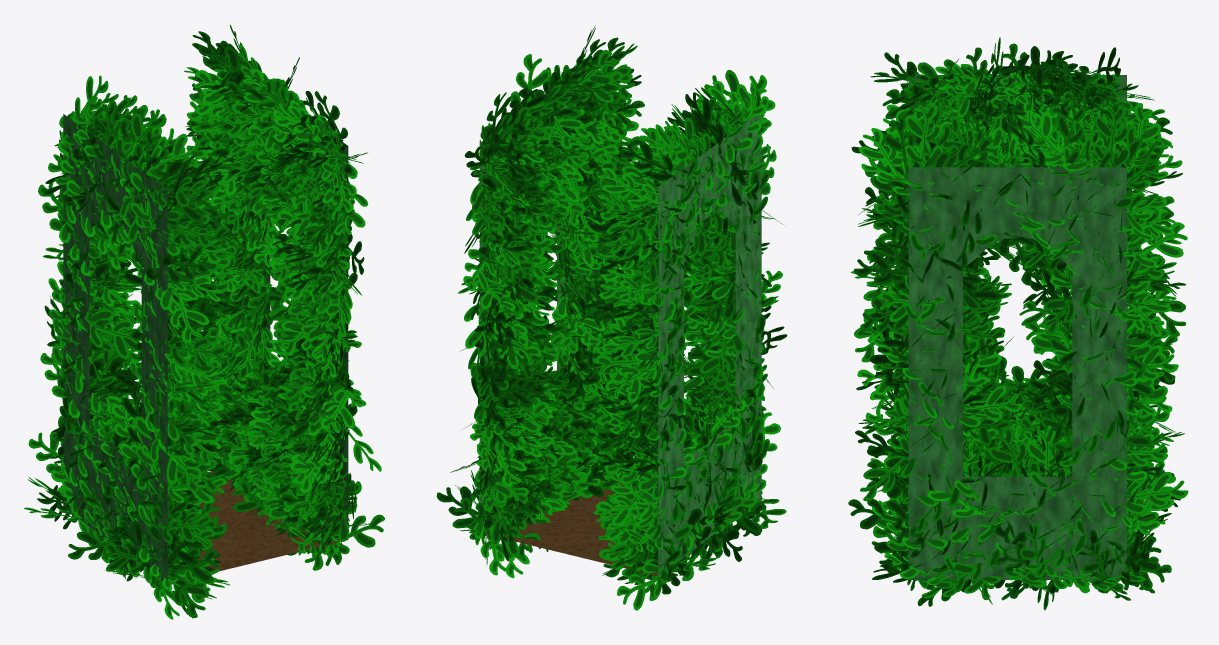
Rendered from StraightV2_4.fbx.
3 views of the same model, side by side, from view 1: azimuth 30°, elevation 25°; view 2: azimuth 150°, elevation 25°; view 3: azimuth 270°, elevation 25° (orthographic). The views are drawn at different scales.
Visible parts, largest first — view 1: StraightV2.4, StraightV2.4|Plane|Dupli|609, StraightV2.4|Plane|Dupli|1644, StraightV2.4|Plane|Dupli|1332, StraightV2.4|Plane|Dupli|1038, StraightV2.4|Plane|Dupli|1540, StraightV2.4|Plane|Dupli|438, StraightV2.4|Plane|Dupli|1015, StraightV2.4|Plane|Dupli|801, StraightV2.4|Plane|Dupli|289, StraightV2.4|Plane|Dupli|1327, StraightV2.4|Plane|Dupli|17 (+33 smaller); view 2: StraightV2.4, StraightV2.4|Plane|Dupli|1617, StraightV2.4|Plane|Dupli|1206, StraightV2.4|Plane|Dupli|1211, StraightV2.4|Plane|Dupli|579, StraightV2.4|Plane|Dupli|1100, StraightV2.4|Plane|Dupli|285, StraightV2.4|Plane|Dupli|1627, StraightV2.4|Plane|Dupli|1674, StraightV2.4|Plane|Dupli|224, StraightV2.4|Plane|Dupli|685, StraightV2.4|Plane|Dupli|275 (+29 smaller); view 3: StraightV2.4, StraightV2.4|Plane|Dupli|322, StraightV2.4|Plane|Dupli|122, StraightV2.4|Plane|Dupli|1712, StraightV2.4|Plane|Dupli|688, StraightV2.4|Plane|Dupli|132, StraightV2.4|Plane|Dupli|1884, StraightV2.4|Plane|Dupli|816, StraightV2.4|Plane|Dupli|447, StraightV2.4|Plane|Dupli|981, StraightV2.4|Plane|Dupli|216, StraightV2.4|Plane|Dupli|1728 (+42 smaller).
Part boxes in pixels (box(x1,y1,x2,y2)): StraightV2.4: box(63, 114, 348, 582); StraightV2.4|Plane|Dupli|609: box(160, 283, 209, 343); StraightV2.4|Plane|Dupli|1644: box(84, 309, 141, 359); StraightV2.4|Plane|Dupli|1332: box(160, 548, 218, 587); StraightV2.4|Plane|Dupli|1038: box(150, 430, 201, 484); StraightV2.4|Plane|Dupli|1540: box(164, 331, 228, 372); StraightV2.4|Plane|Dupli|438: box(116, 110, 165, 169); StraightV2.4|Plane|Dupli|1015: box(167, 412, 219, 465); StraightV2.4|Plane|Dupli|801: box(320, 383, 361, 431); StraightV2.4|Plane|Dupli|289: box(146, 133, 206, 179); StraightV2.4|Plane|Dupli|1327: box(158, 510, 211, 542); StraightV2.4|Plane|Dupli|17: box(335, 514, 384, 554); StraightV2.4: box(479, 85, 761, 575); StraightV2.4|Plane|Dupli|1617: box(605, 352, 663, 402); StraightV2.4|Plane|Dupli|1206: box(617, 562, 664, 610); StraightV2.4|Plane|Dupli|1211: box(595, 490, 660, 526); StraightV2.4|Plane|Dupli|579: box(620, 142, 676, 180); StraightV2.4|Plane|Dupli|1100: box(699, 327, 744, 390); StraightV2.4|Plane|Dupli|285: box(598, 168, 660, 205); StraightV2.4|Plane|Dupli|1627: box(594, 341, 662, 381); StraightV2.4|Plane|Dupli|1674: box(691, 230, 739, 280); StraightV2.4|Plane|Dupli|224: box(510, 54, 551, 105); StraightV2.4|Plane|Dupli|685: box(556, 295, 605, 346); StraightV2.4|Plane|Dupli|275: box(605, 208, 658, 253); StraightV2.4: box(908, 75, 1126, 579); StraightV2.4|Plane|Dupli|322: box(905, 102, 942, 172); StraightV2.4|Plane|Dupli|122: box(1093, 105, 1130, 167); StraightV2.4|Plane|Dupli|1712: box(1124, 472, 1188, 513); StraightV2.4|Plane|Dupli|688: box(958, 385, 1022, 427); StraightV2.4|Plane|Dupli|132: box(1124, 222, 1187, 267); StraightV2.4|Plane|Dupli|1884: box(987, 426, 1039, 490); StraightV2.4|Plane|Dupli|816: box(860, 450, 916, 501); StraightV2.4|Plane|Dupli|447: box(997, 232, 1048, 285); StraightV2.4|Plane|Dupli|981: box(853, 251, 922, 290); StraightV2.4|Plane|Dupli|216: box(858, 128, 910, 184); StraightV2.4|Plane|Dupli|1728: box(848, 499, 910, 533).
Size of the model in its own units: 188 by 325 by 203.
